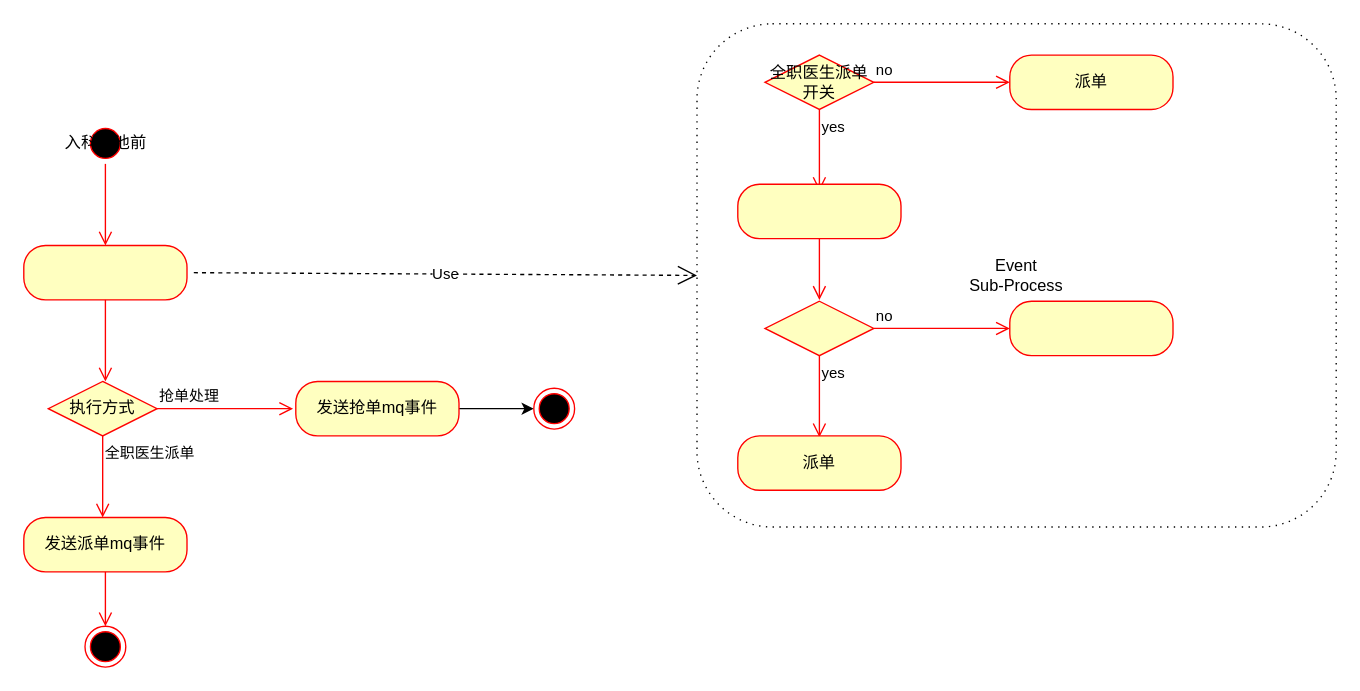
Image size: 1360x691. Some labels were removed from this diagram. Each missing label, with the centre of its shape:
初步获取需路由类型: the point at 104,272
抢单: the point at 1090,328
是否有未达接诊上限医生: the point at 819,328
获取该科室可派单的医生名单: the point at 818,211
